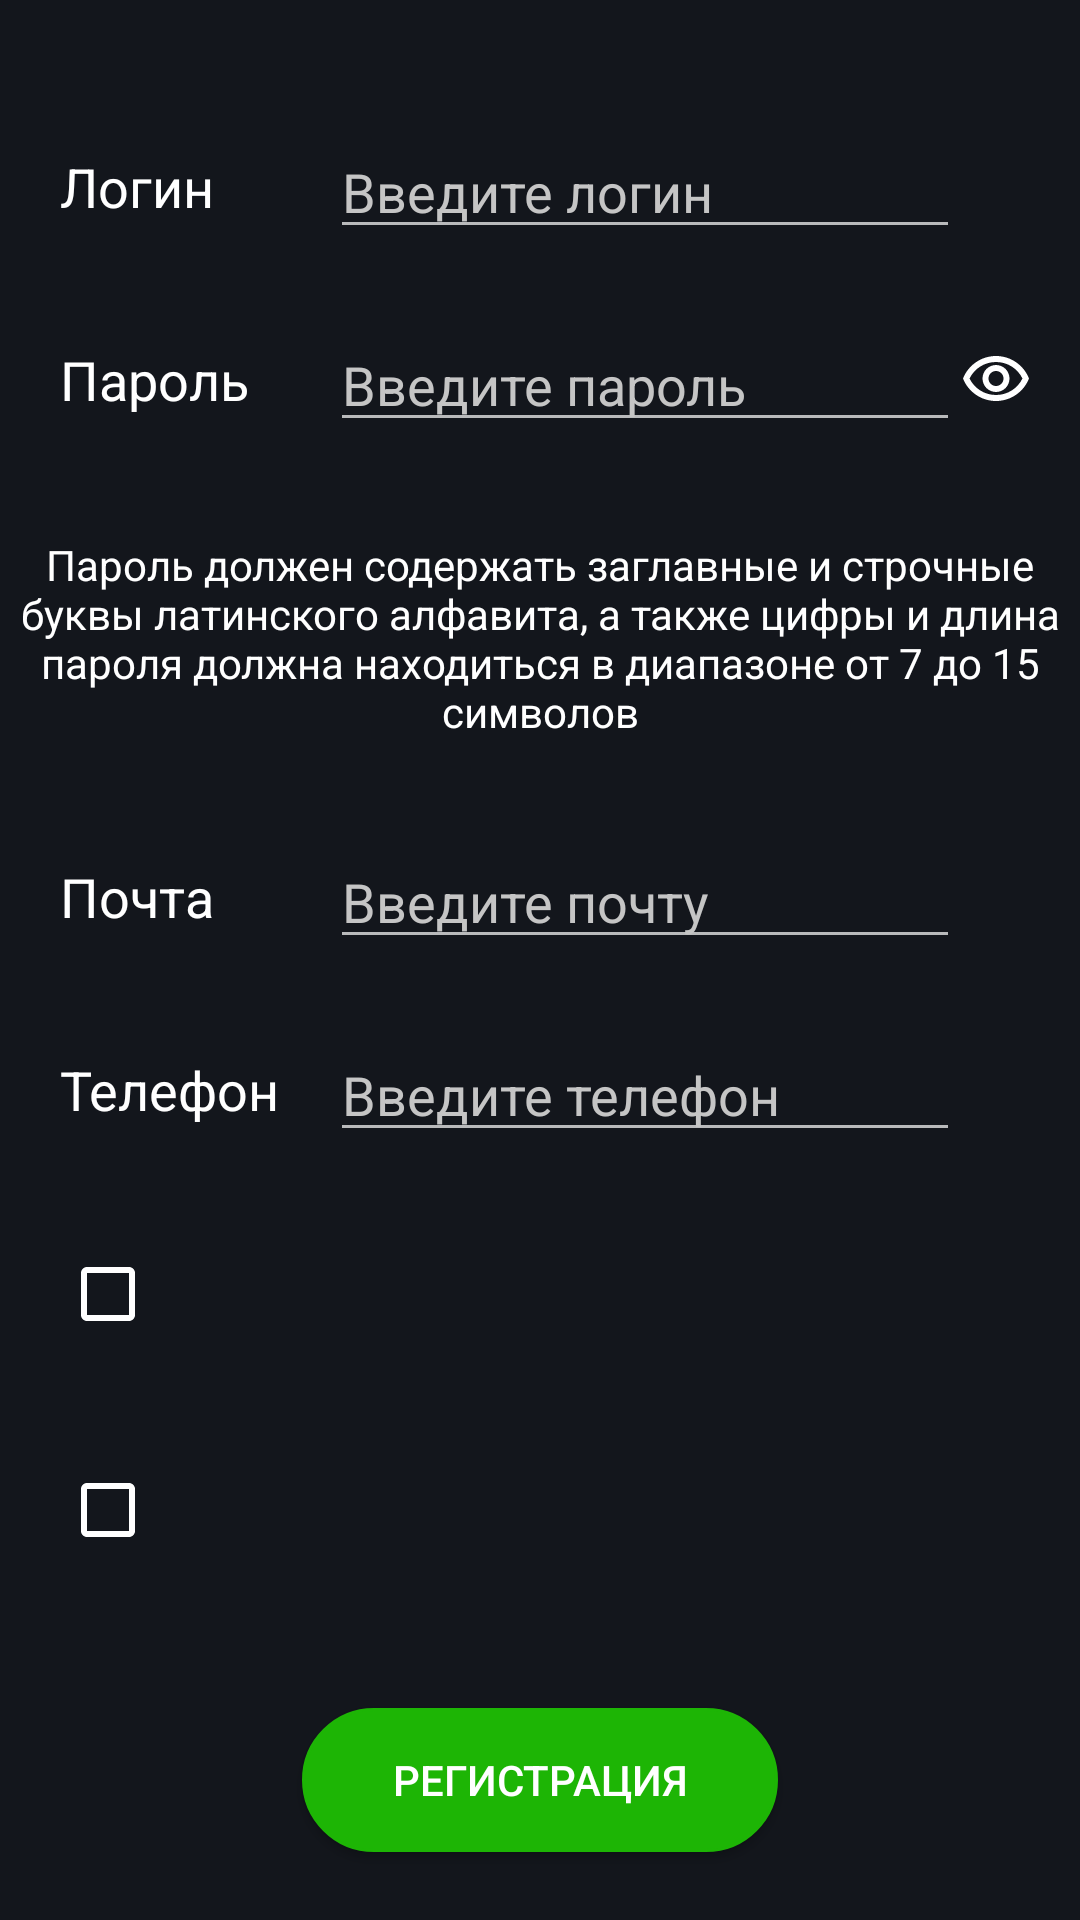

Icon click points for this 1080 × 1920 phone screenshot, format [x,y]:
visibilityon: [996,378]
